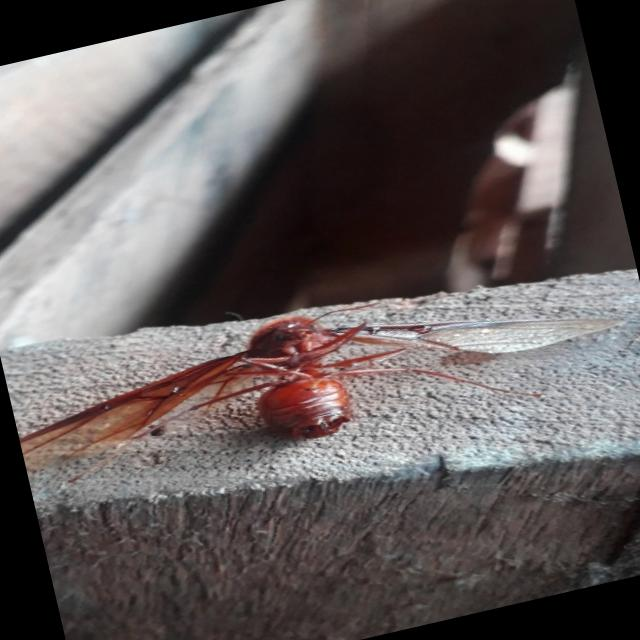Dead-Male-Alate: (1, 223, 640, 513)
